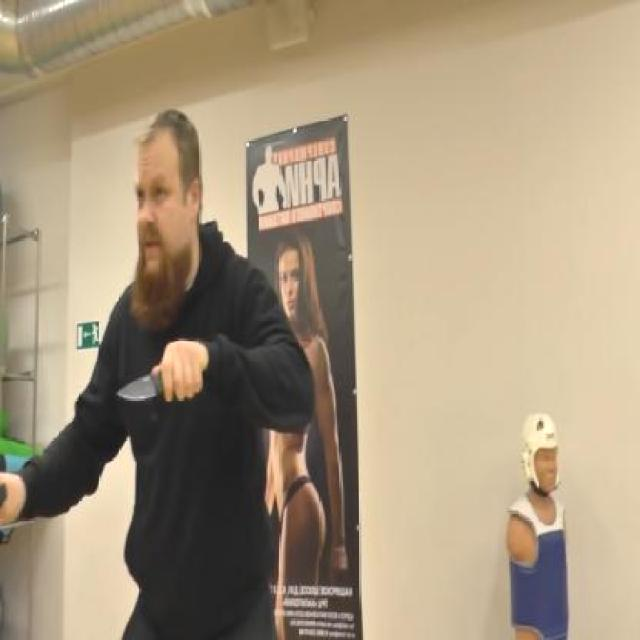knife: (112, 337, 192, 408)
